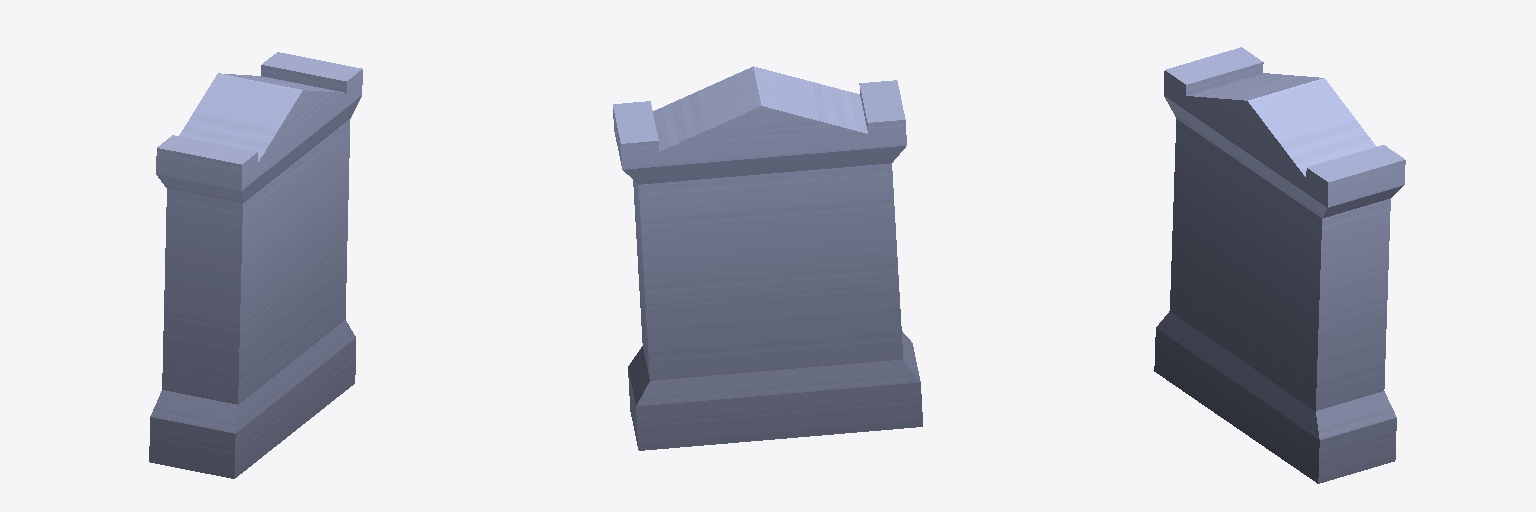
3 views of the same model, side by side, from view 1: azimuth 30°, elevation 25°; view 2: azimuth 150°, elevation 25°; view 3: azimuth 270°, elevation 25° (orthographic).
Parts seen in each view (by area): view 1: Gravestone_Decorative_1; view 2: Gravestone_Decorative_1; view 3: Gravestone_Decorative_1.
Part boxes in pixels (bbox=[...]): Gravestone_Decorative_1: bbox=[149, 52, 362, 478]; Gravestone_Decorative_1: bbox=[613, 66, 922, 450]; Gravestone_Decorative_1: bbox=[1154, 47, 1405, 483].
Size of the model in its own units: 0.5777 by 0.7168 by 0.4795.
Materials: 1 (1 with a texture image).